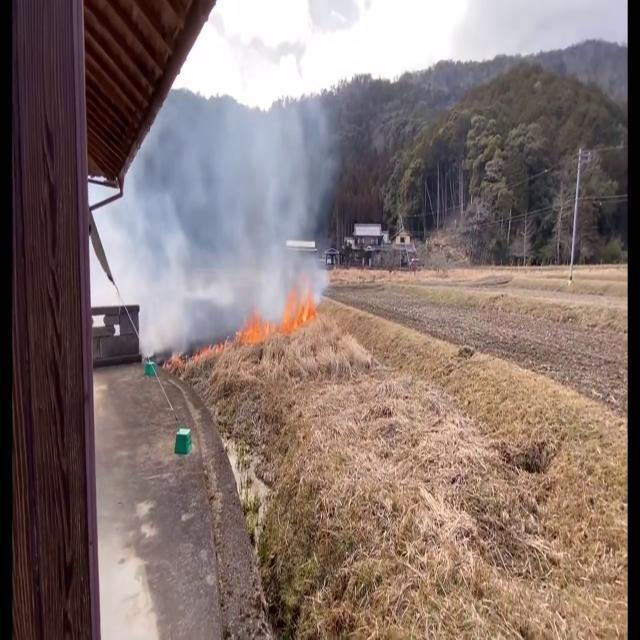Fire: (238, 281, 318, 349), (280, 280, 318, 340)
Smoke: (109, 42, 338, 358)
